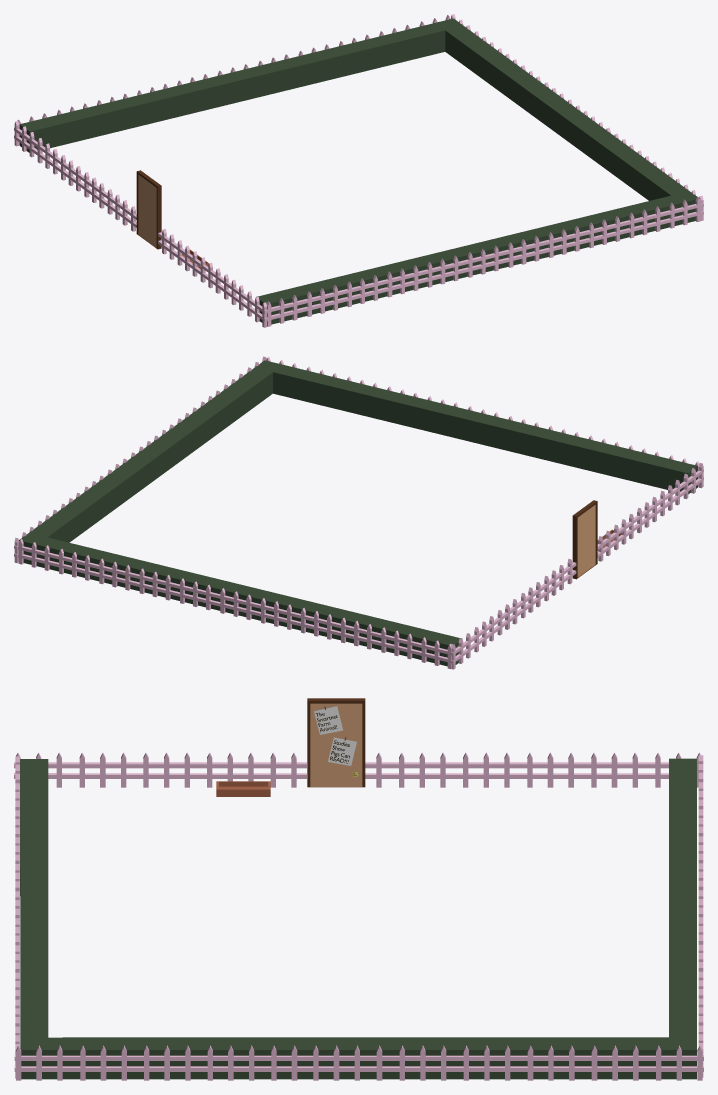
File: pigPen.glb
The picture shows the model from 3 angles, top to bottom: view 1: azimuth 30°, elevation 25°; view 2: azimuth 150°, elevation 25°; view 3: azimuth 270°, elevation 25°; orthographic projection. The views are drawn at different scales.
Parts seen in each view (by area): view 1: Bushes, Fences, Door, DoorFrame; view 2: Bushes, Fences, Door, DoorFrame; view 3: Bushes, Fences, Door, DoorFrame, ClayCube, Paper2, Paper1.
Part boxes in pixels (left/top/right/bottom): Bushes: left=19, top=18, right=696, bottom=324; Fences: left=14, top=14, right=703, bottom=327; Door: left=138, top=175, right=156, bottom=247; DoorFrame: left=136, top=170, right=161, bottom=249; Bushes: left=19, top=360, right=697, bottom=666; Fences: left=14, top=356, right=703, bottom=669; Door: left=577, top=505, right=595, bottom=577; DoorFrame: left=572, top=500, right=597, bottom=579; Bushes: left=20, top=758, right=696, bottom=1079; Fences: left=14, top=752, right=703, bottom=1080; Door: left=310, top=703, right=362, bottom=786; DoorFrame: left=307, top=698, right=365, bottom=787; ClayCube: left=216, top=781, right=270, bottom=796; Paper2: left=328, top=737, right=356, bottom=765; Paper1: left=314, top=706, right=343, bottom=734.
Size of the model in its own units: 81.29 by 11.26 by 80.38.
